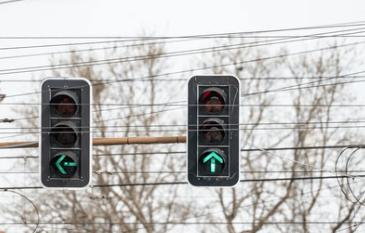green_light: (186, 74, 241, 187), (39, 77, 93, 190)
